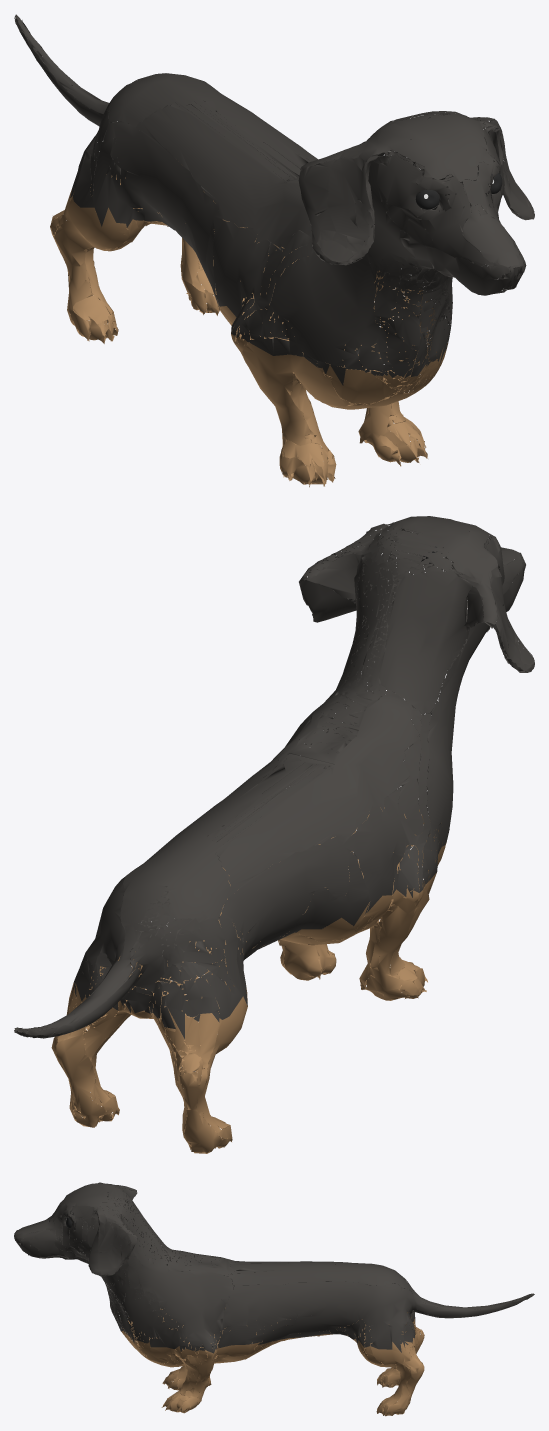
File: ban.glb
The picture shows the model from 3 angles, top to bottom: view 1: azimuth 30°, elevation 25°; view 2: azimuth 150°, elevation 25°; view 3: azimuth 270°, elevation 25°; orthographic projection. The views are drawn at different scales.
Visible parts, largest first — view 1: Ban; view 2: Ban; view 3: Ban.
Boxes of the visible parts, bbox=[...] form: Ban: bbox=[14, 14, 534, 487]; Ban: bbox=[14, 516, 534, 1153]; Ban: bbox=[14, 1182, 534, 1416].
Size of the model in its own units: 0.2332 by 0.4232 by 0.9516.
